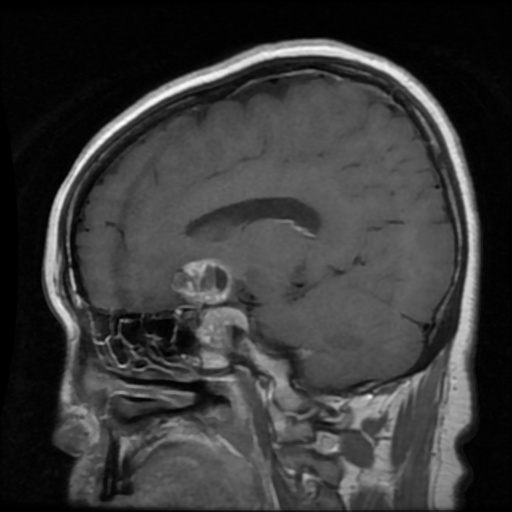pituitary: (174, 257, 248, 347)
